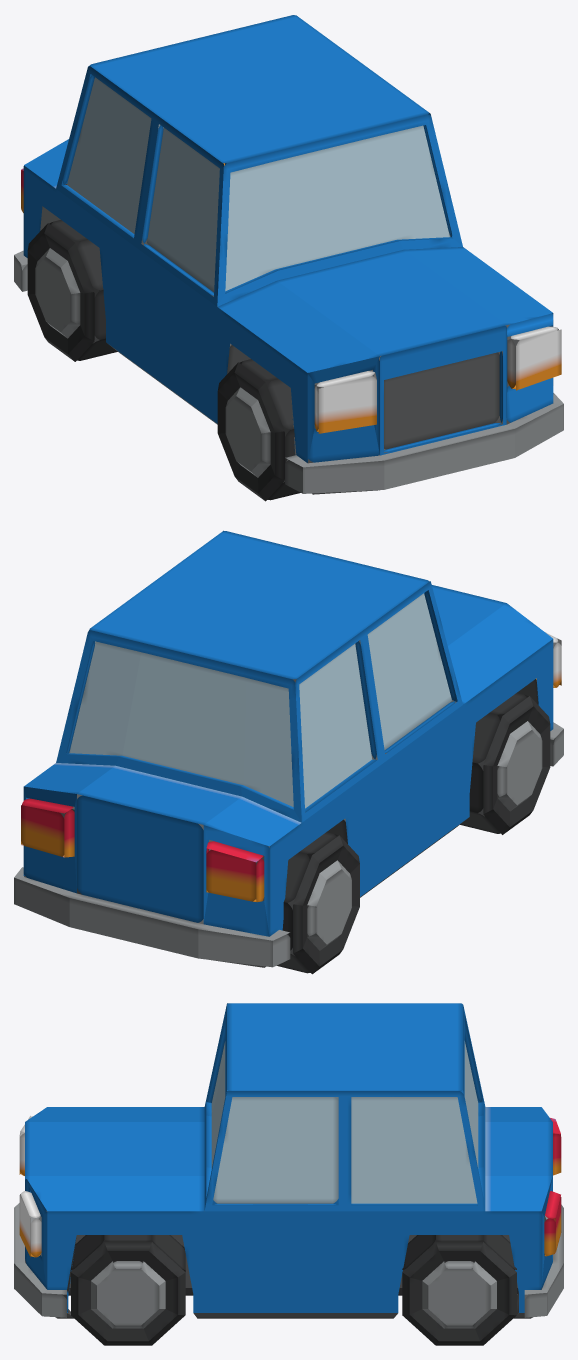
Rendered from Car 2.fbx.
3 renders of one model, top to bottom at view 1: azimuth 30°, elevation 25°; view 2: azimuth 150°, elevation 25°; view 3: azimuth 270°, elevation 25°, orthographic. The views are drawn at different scales.
Visible parts, largest first — view 1: cuboid, cylinder_3, cylinder_2; view 2: cuboid, cylinder_2, cylinder_3; view 3: cuboid, cylinder, cylinder_1.
Boxes of the visible parts, x1,y1,x2,y2 form: cuboid: [14, 15, 563, 494]; cylinder_3: [27, 220, 117, 361]; cylinder_2: [217, 359, 300, 501]; cuboid: [14, 530, 563, 967]; cylinder_2: [460, 693, 550, 834]; cylinder_3: [277, 832, 359, 974]; cuboid: [14, 1003, 563, 1318]; cylinder: [71, 1235, 185, 1345]; cylinder_1: [402, 1235, 516, 1345].
Bounding box in the file's own units: 157 × 149 × 306.
Materials: 1 (1 with a texture image).
